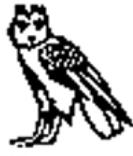Owl: (3, 1, 132, 152)
